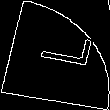L_W: (22, 34, 88, 76)
